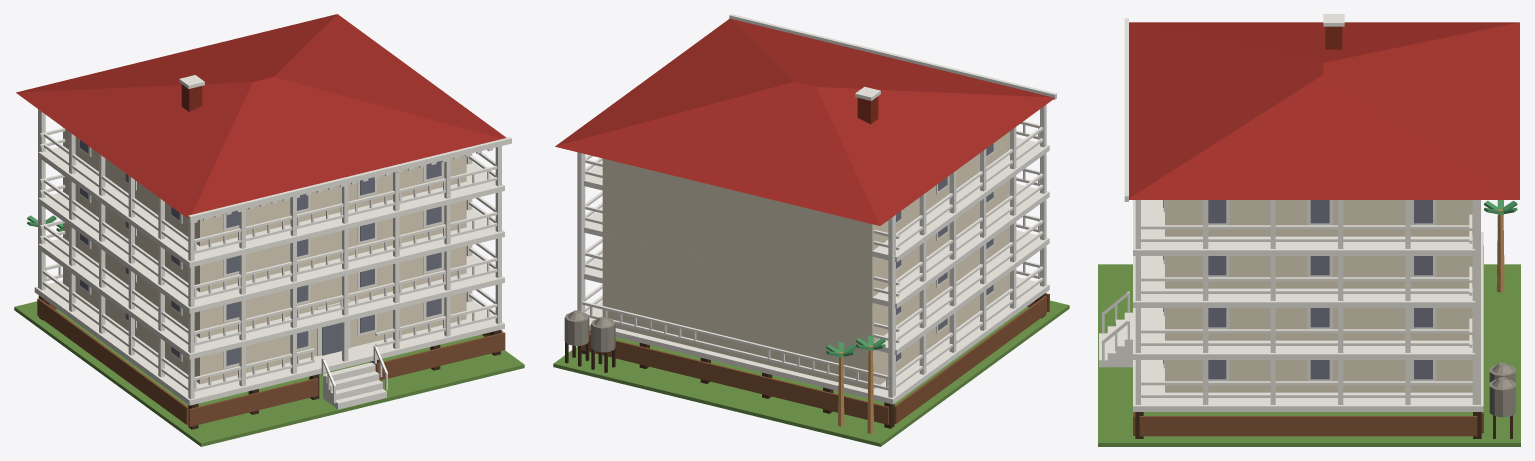
Rendered from house-2x2-4f-queenslander-a.glb.
3 renders of one model, left to right at view 1: azimuth 30°, elevation 25°; view 2: azimuth 150°, elevation 25°; view 3: azimuth 270°, elevation 25°, orthographic. The views are drawn at different scales.
Parts seen in each view (by area): view 1: house-2x2-4f-queenslander-a; view 2: house-2x2-4f-queenslander-a; view 3: house-2x2-4f-queenslander-a.
Part boxes in pixels (x1,y1,x2,y2): house-2x2-4f-queenslander-a: (14,14,524,446); house-2x2-4f-queenslander-a: (553,14,1069,446); house-2x2-4f-queenslander-a: (1098,14,1520,446).
Bounding box in the file's own units: 1.99 × 1.57 × 1.99.
Materials: 1 (1 with a texture image).
